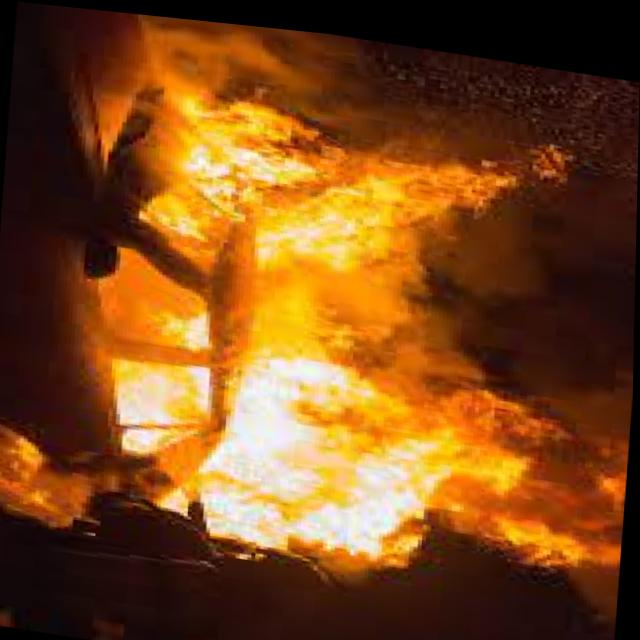Fire: (90, 62, 639, 640), (0, 439, 71, 514)
